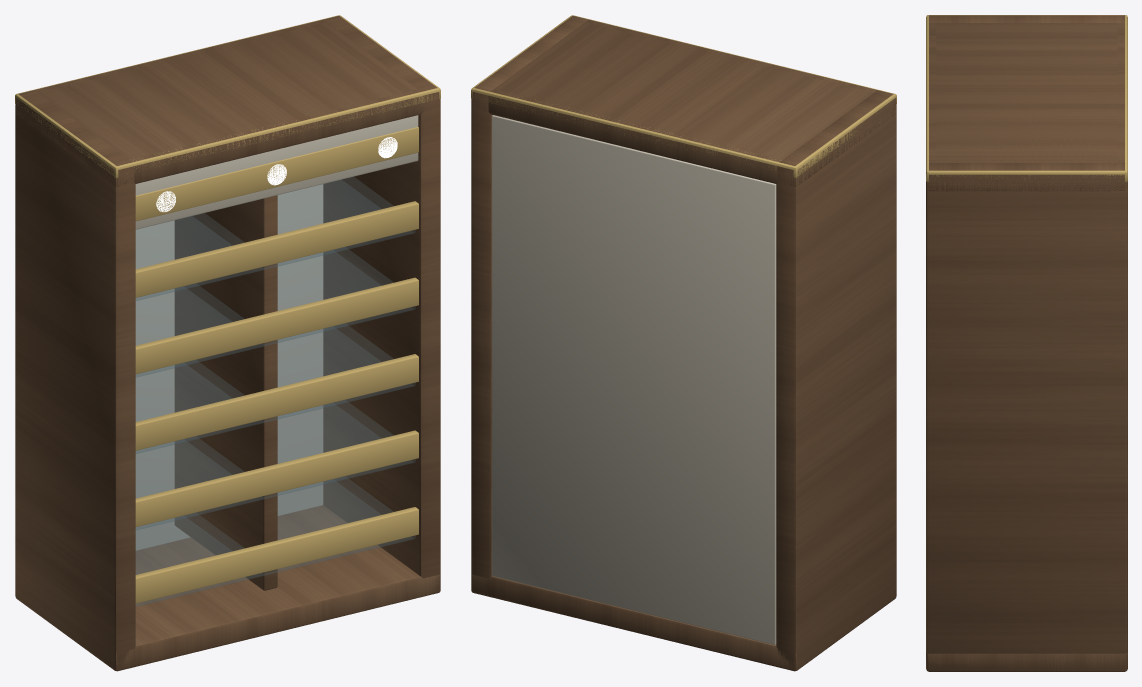
Rendered from pf_display_impulse_shelf_t4.glb.
3 views of the same model, side by side, from view 1: azimuth 30°, elevation 25°; view 2: azimuth 150°, elevation 25°; view 3: azimuth 270°, elevation 25° (orthographic).
Parts seen in each view (by area): view 1: Case_Left, Case_Right, Crown_Main, Millwork_Divider_01, Case_Base, Case_Back, Case_Top, Shelf_03, Shelf_02, Shelf_04, Shelf_01, Shelf_Lip_03 (+8 smaller); view 2: Case_Back, Case_Left, Crown_Main, Case_Top, Case_Right, Case_Base, Crown_Trim; view 3: Case_Right, Crown_Main, Case_Top, Case_Base, Crown_Trim, Case_Left.
Boxes of the visible parts, box(x1,y1,x2,y2) form: Case_Left: box(15, 90, 135, 670); Case_Right: box(323, 16, 440, 596); Crown_Main: box(38, 22, 417, 159); Millwork_Divider_01: box(174, 195, 277, 590); Case_Base: box(15, 505, 439, 671); Case_Back: box(135, 184, 323, 550); Case_Top: box(15, 19, 436, 186); Shelf_03: box(136, 326, 415, 453); Shelf_02: box(136, 402, 415, 530); Shelf_04: box(136, 249, 415, 377); Shelf_01: box(136, 479, 415, 606); Shelf_Lip_03: box(135, 354, 418, 450); Case_Back: box(492, 115, 776, 644); Case_Left: box(776, 90, 896, 670); Crown_Main: box(494, 22, 873, 159); Case_Top: box(474, 19, 896, 186); Case_Right: box(471, 16, 588, 596); Case_Base: box(471, 574, 895, 671); Crown_Trim: box(471, 15, 896, 178); Case_Right: box(926, 163, 1127, 671); Crown_Main: box(936, 23, 1117, 163); Case_Top: box(927, 23, 1127, 191); Case_Base: box(926, 652, 1127, 670); Crown_Trim: box(926, 15, 1127, 182); Case_Left: box(929, 15, 1124, 22).
Size of the model in its own units: 1 by 1.48 by 0.54.
6 materials, 1 textured.
